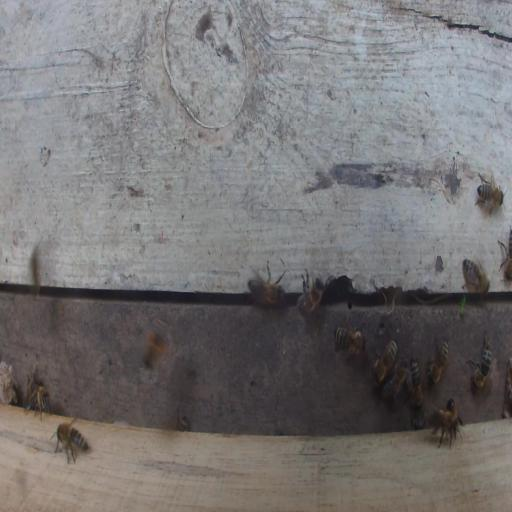nonpollenbee: (49, 412, 91, 465), (247, 257, 290, 308), (474, 162, 508, 219), (371, 329, 399, 388), (466, 331, 493, 390), (424, 334, 451, 388), (296, 266, 325, 316), (334, 317, 367, 359), (461, 253, 491, 298), (381, 355, 409, 401), (403, 356, 424, 410), (431, 408, 458, 449), (27, 383, 51, 423), (496, 226, 512, 283), (25, 362, 41, 407), (447, 398, 466, 427), (174, 406, 189, 432)
pollenbee: (144, 312, 171, 371)
